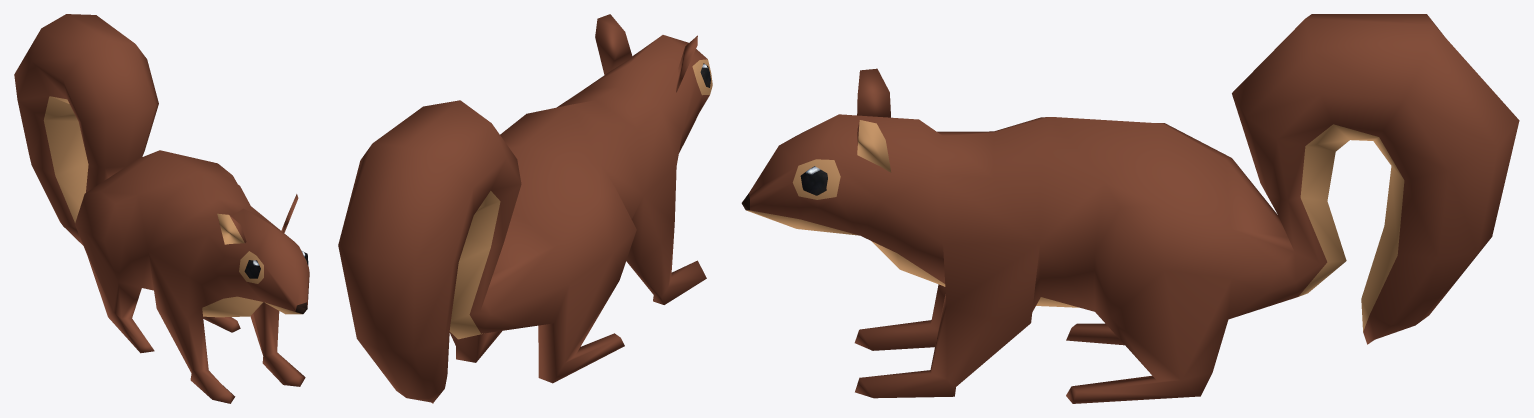
Rendered from Squirrel01.glb.
3 renders of one model, left to right at view 1: azimuth 30°, elevation 25°; view 2: azimuth 150°, elevation 25°; view 3: azimuth 270°, elevation 25°, orthographic. The views are drawn at different scales.
Visible parts, largest first — view 1: Squirrel01; view 2: Squirrel01; view 3: Squirrel01.
Part boxes in pixels (bbox=[...]): Squirrel01: bbox=[14, 14, 309, 403]; Squirrel01: bbox=[338, 14, 712, 403]; Squirrel01: bbox=[741, 14, 1519, 403].
Size of what is drawn, in the model's own units: 0.2469 by 0.3879 by 0.782.
1 material, 1 textured.
